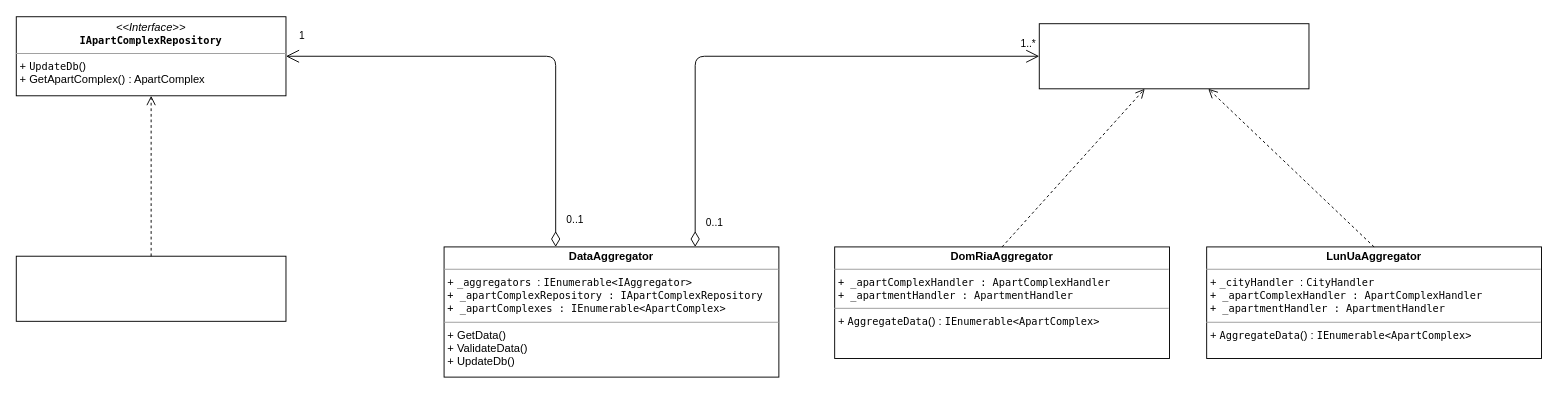
Some shapes in this 1558 by 393 pixel diagram are drawn without their labels. The shapes that lost their labels are listed below. From the top down, each one's centre as x and y in pixels, then its label:
At (1173,56): "<<Interface>> IAggregator + AggregateData () : IEnumerable < ApartComplex >".
At (150,288): "ApartComplexRepository + UpdateDb() + GetApartComplex() : ApartComplex".
